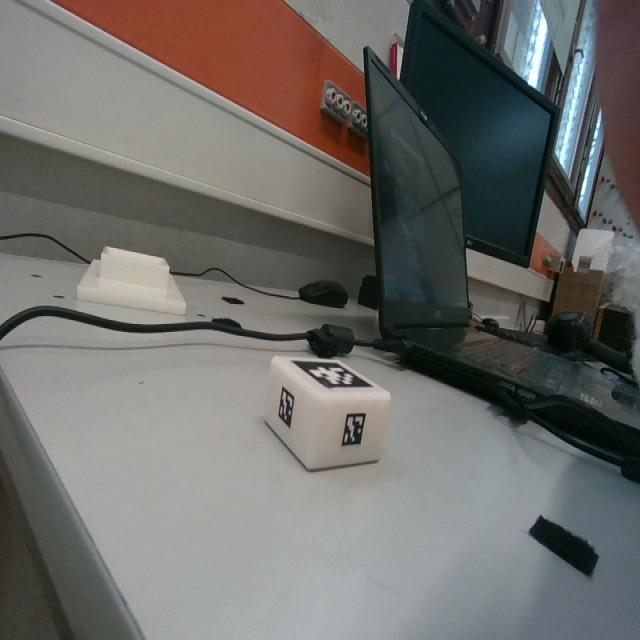Cube: (260, 356, 388, 471)
